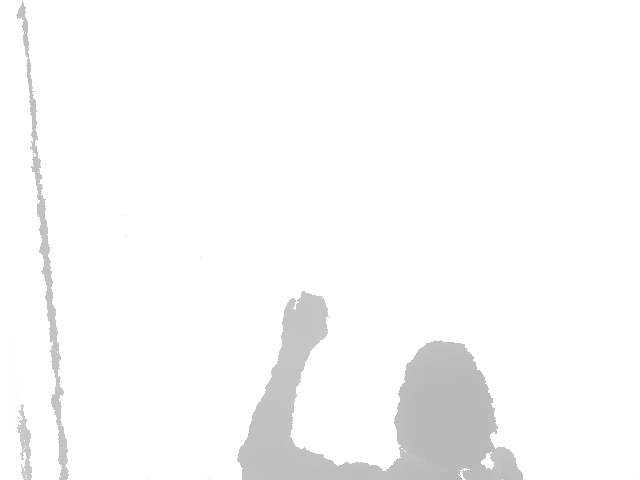hand: (281, 291, 330, 351)
head: (395, 340, 498, 464)
person: (239, 290, 526, 480)
